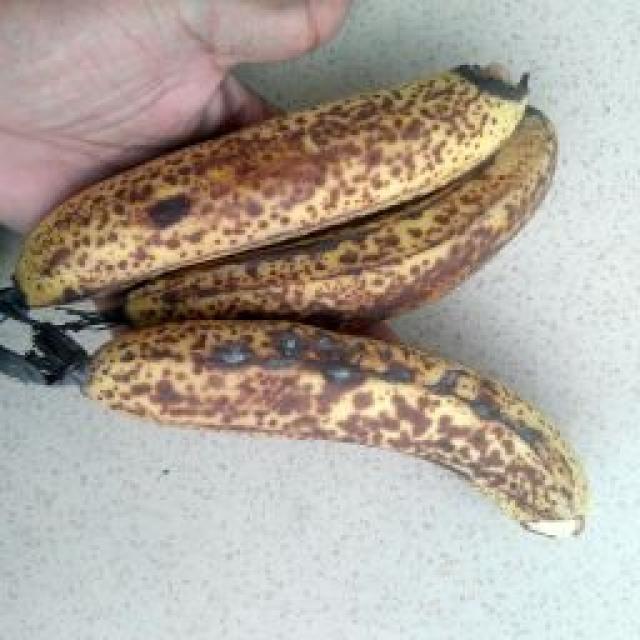banana: (170, 38, 581, 562)
